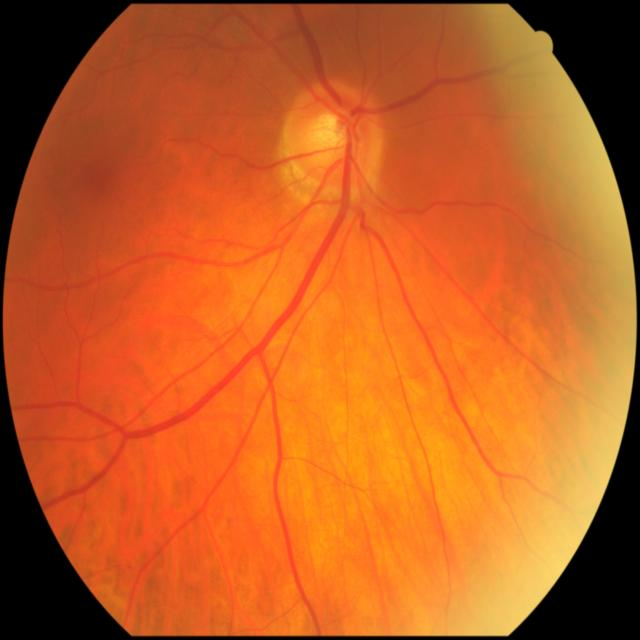OC: (310, 116, 346, 150)
OD: (286, 81, 388, 193)
